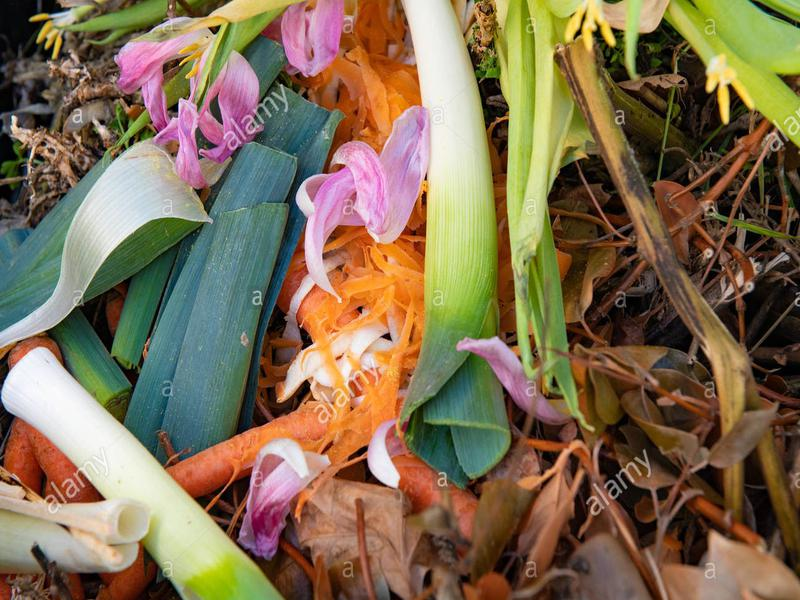flowers: (27, 3, 434, 309)
vegetation: (388, 3, 799, 600), (1, 244, 484, 600)
